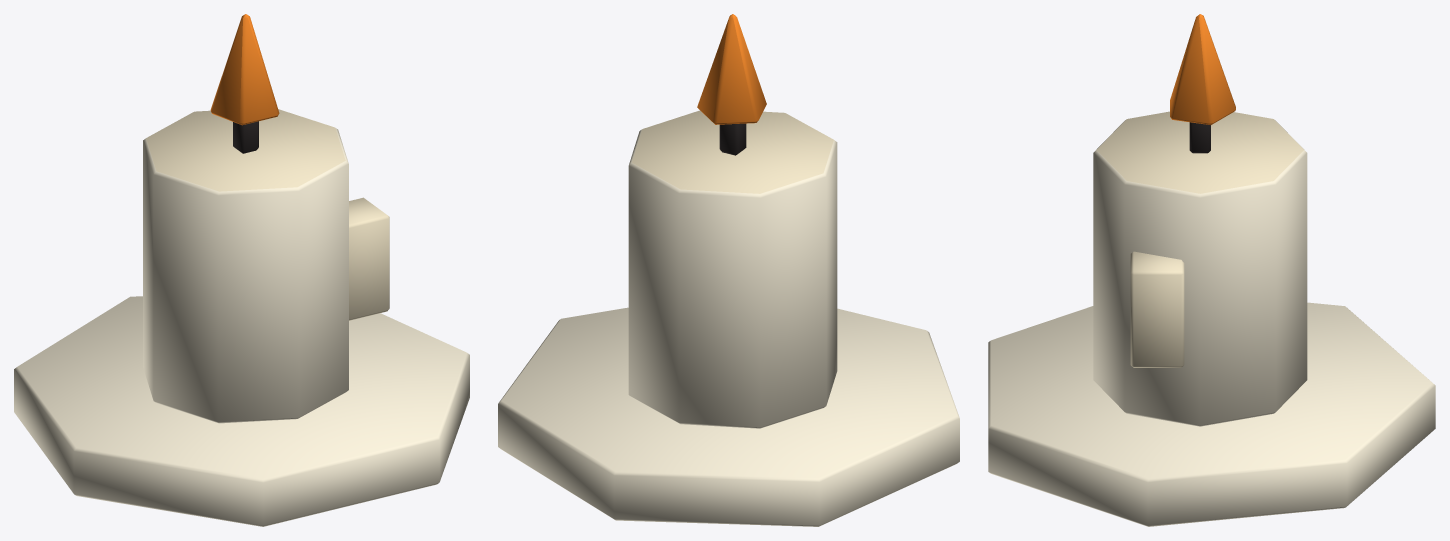
The model's file is P_MedCandleStub.fbx.
The picture shows the model from 3 angles, left to right: view 1: azimuth 30°, elevation 25°; view 2: azimuth 150°, elevation 25°; view 3: azimuth 270°, elevation 25°; orthographic projection.
Parts seen in each view (by area): view 1: M_CandleStub; view 2: M_CandleStub; view 3: M_CandleStub.
Boxes of the visible parts, x1,y1,x2,y2 form: M_CandleStub: (14,14,469,526); M_CandleStub: (498,14,959,526); M_CandleStub: (988,14,1435,526).
Size of the model in its own units: 0.2145 by 0.215 by 0.2091.
1 material, 1 textured.
